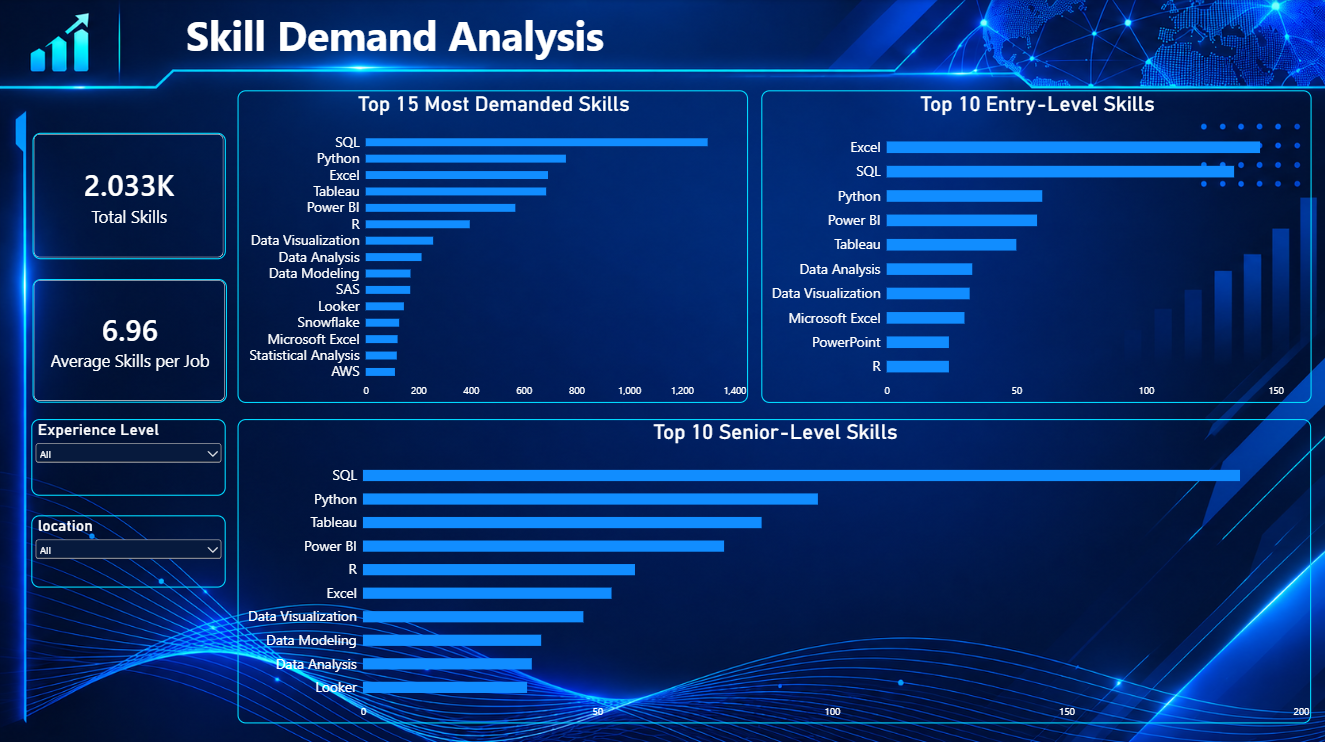

The page's visual inventory and layout, read from the dashboard file:
{"tool":"powerbi","page":{"name":"Skill Demand","canvas":[1920,1080],"ordinal":1},"visuals":[{"type":"textbox","box":[204.5,12.7,1027.9,90.5],"z":0},{"type":"clusteredBarChart","title":"Top 15 Most Demanded Skills","fields":{"Category":["skills_cleaned.name"],"Y":["CountNonNull(vacancy_skills_cleaned.vacancy_id)"]},"box":[343.7,131.7,738.9,452.8],"z":1},{"type":"clusteredBarChart","title":"Top 10 Entry-Level Skills","fields":{"Category":["skills_cleaned.name"],"Y":["CountNonNull(vacancy_skills_cleaned.vacancy_id)"]},"box":[1101.2,131.7,796.6,452.8],"z":2},{"type":"clusteredBarChart","title":"Top 10 Senior-Level Skills","fields":{"Category":["skills_cleaned.name"],"Y":["CountNonNull(vacancy_skills_cleaned.vacancy_id)"]},"box":[343.7,607.2,1554,440.5],"z":3},{"type":"cardVisual","fields":{"Data":["CountNonNull(skills_cleaned.id)"]},"box":[47.3,193.5,279.9,183.2],"z":4},{"type":"cardVisual","fields":{"Data":["Calculation.Average Skills per Job"]},"box":[47.3,405.5,282,179.1],"z":5},{"type":"slicer","fields":{"Values":["vacancies_cleaned.experience_level"]},"box":[45.3,607.2,282,111.1],"z":6},{"type":"slicer","fields":{"Values":["vacancies_cleaned.location"]},"box":[45.3,747.2,282,105],"z":7}]}

Visuals, with their boxes in screenshot pixels (x1, y1, x2, y2), scaled from the page's 1920x1080 canvas onto the 1325x742 screenshot:
textbox: [141, 9, 850, 71]
"Top 15 Most Demanded Skills" clusteredBarChart: [237, 90, 747, 402]
"Top 10 Entry-Level Skills" clusteredBarChart: [760, 90, 1310, 402]
"Top 10 Senior-Level Skills" clusteredBarChart: [237, 417, 1310, 720]
cardVisual - CountNonNull(skills_cleaned.id): [33, 133, 226, 259]
cardVisual - Calculation.Average Skills per Job: [33, 279, 227, 402]
slicer - vacancies_cleaned.experience_level: [31, 417, 226, 493]
slicer - vacancies_cleaned.location: [31, 513, 226, 585]
